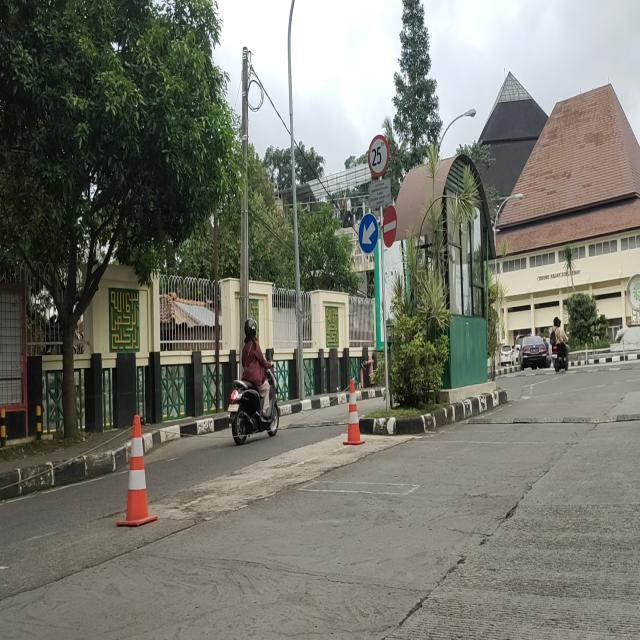helmet: (246, 319, 257, 339)
